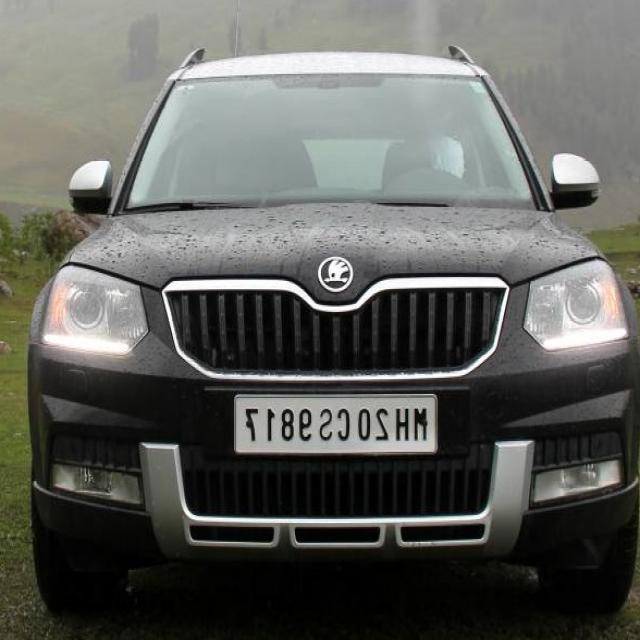license_plate: (223, 381, 444, 463)
